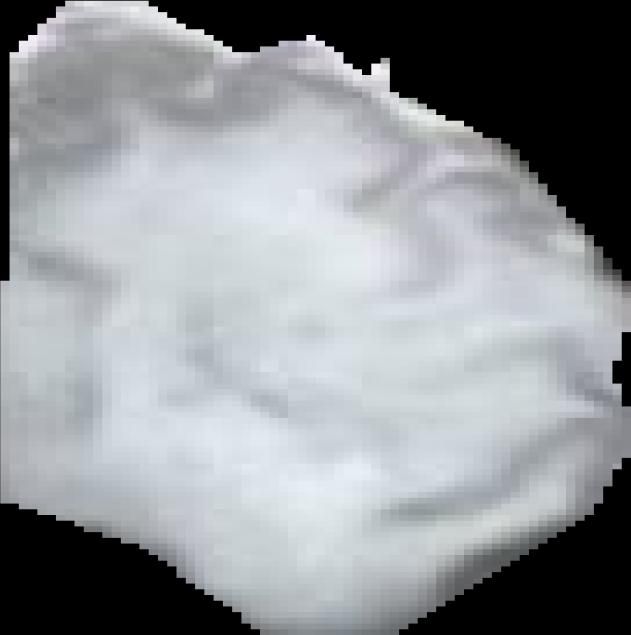tumor_less_chance: (0, 1, 631, 635)
